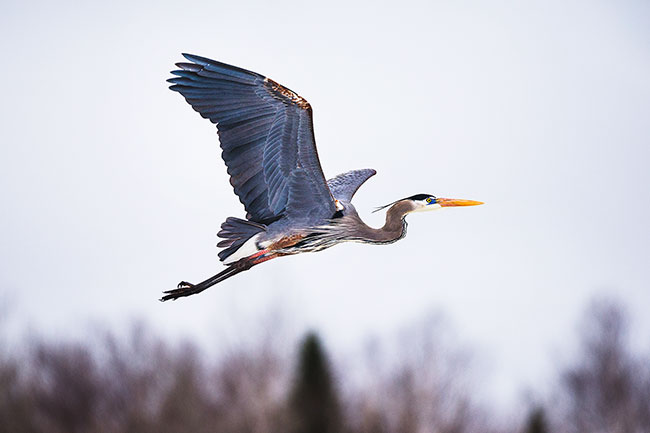heron: (152, 44, 490, 302)
